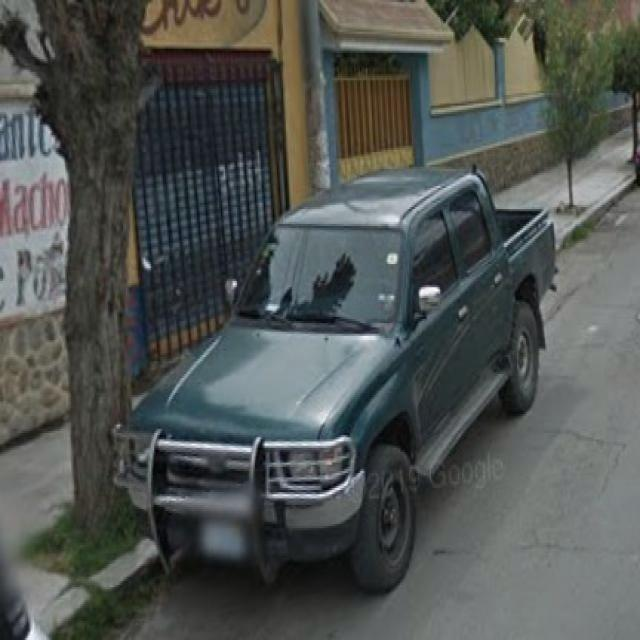Car: (126, 200, 560, 598)
